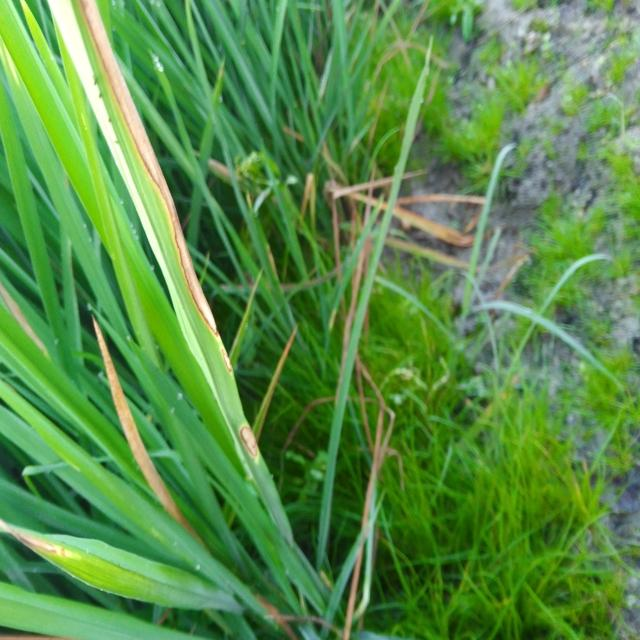Brown spot: (52, 10, 378, 487)
